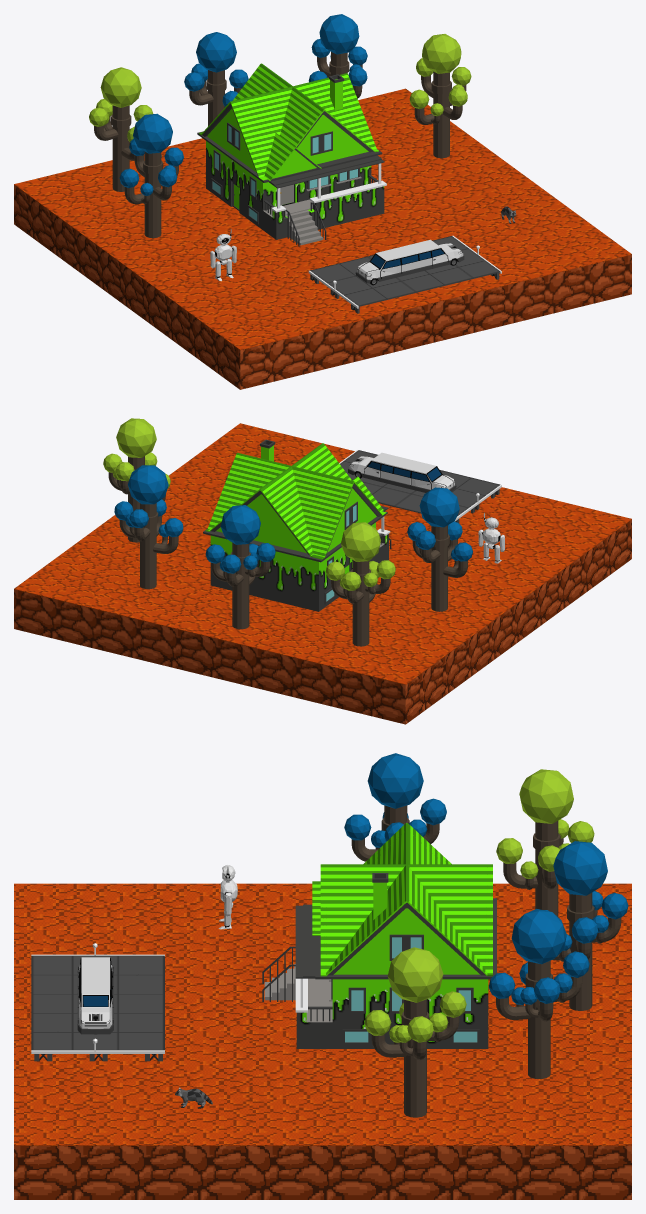
The picture shows the model from 3 angles, top to bottom: view 1: azimuth 30°, elevation 25°; view 2: azimuth 150°, elevation 25°; view 3: azimuth 270°, elevation 25°; orthographic projection. The views are drawn at different scales.
Visible parts, largest first — view 1: Cube.001, Cube.754, VEHICLES_LIMOUSINE, OBJRANDOM_PLATZEEBOT; view 2: Cube.001, Cube.754, VEHICLES_LIMOUSINE, OBJRANDOM_PLATZEEBOT; view 3: Cube.001, Cube.754, VEHICLES_LIMOUSINE, OBJRANDOM_PLATZEEBOT.
Part boxes in pixels (x1,y1,x2,y2): Cube.001: (14,14,631,389); Cube.754: (197,63,386,246); VEHICLES_LIMOUSINE: (355,239,464,285); OBJRANDOM_PLATZEEBOT: (210,229,236,281); Cube.001: (14,418,631,724); Cube.754: (203,439,391,611); VEHICLES_LIMOUSINE: (348,452,456,492); OBJRANDOM_PLATZEEBOT: (478,513,504,563); Cube.001: (14,753,631,1199); Cube.754: (262,823,496,1048); VEHICLES_LIMOUSINE: (77,957,113,1034); OBJRANDOM_PLATZEEBOT: (218,865,237,929).
Bounding box in the file's own units: 4000 × 1680 × 4000.
32 materials, 5 textured.
